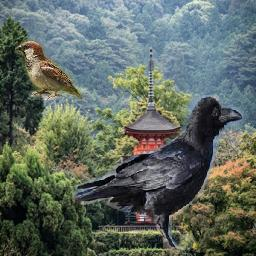Crow: (73, 96, 244, 255)
Sparrow: (16, 40, 83, 100)
